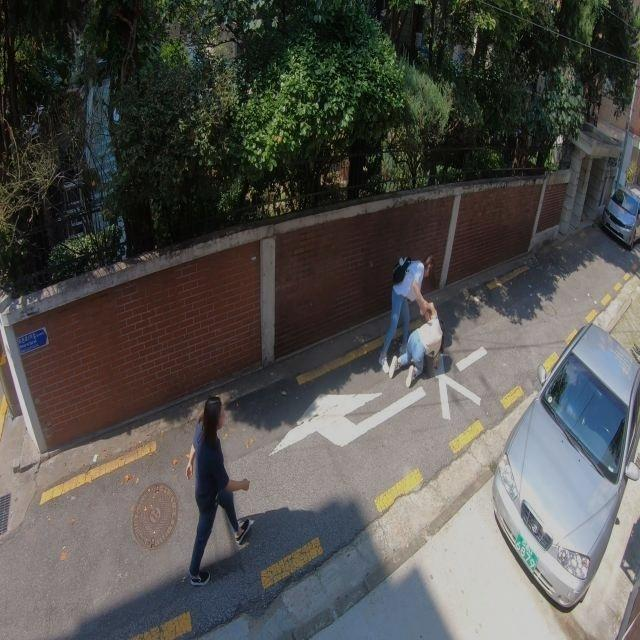fight: (377, 254, 447, 386)
non-fight: (185, 395, 246, 589)
